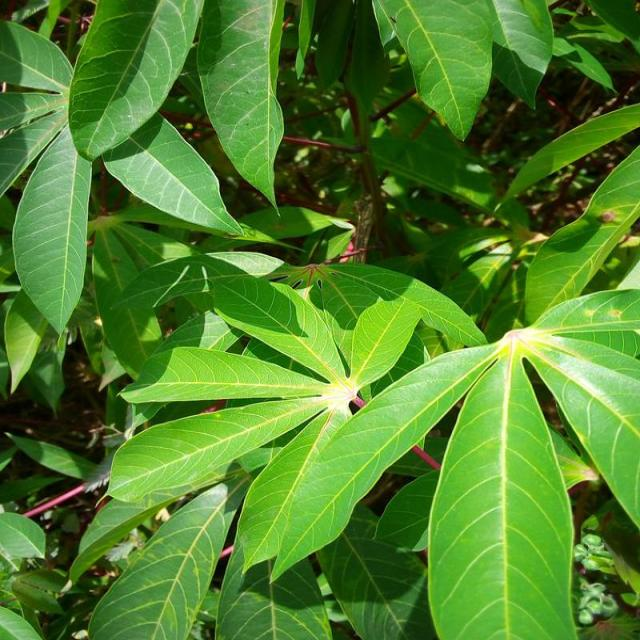cassava leaf: (1, 1, 638, 638), (426, 336, 578, 638)
